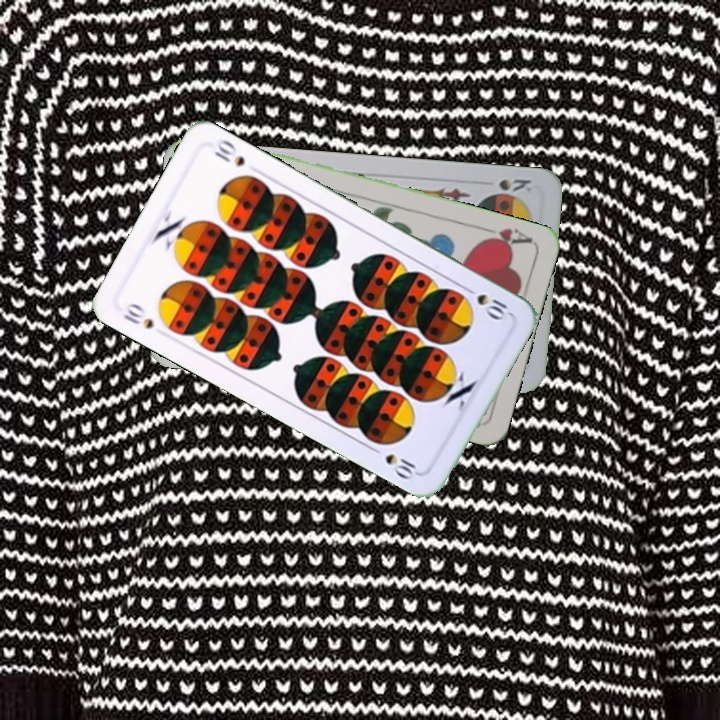HA: (476, 222, 535, 251)
S10: (459, 282, 513, 323), (119, 299, 156, 332)
SK: (494, 175, 537, 196)
